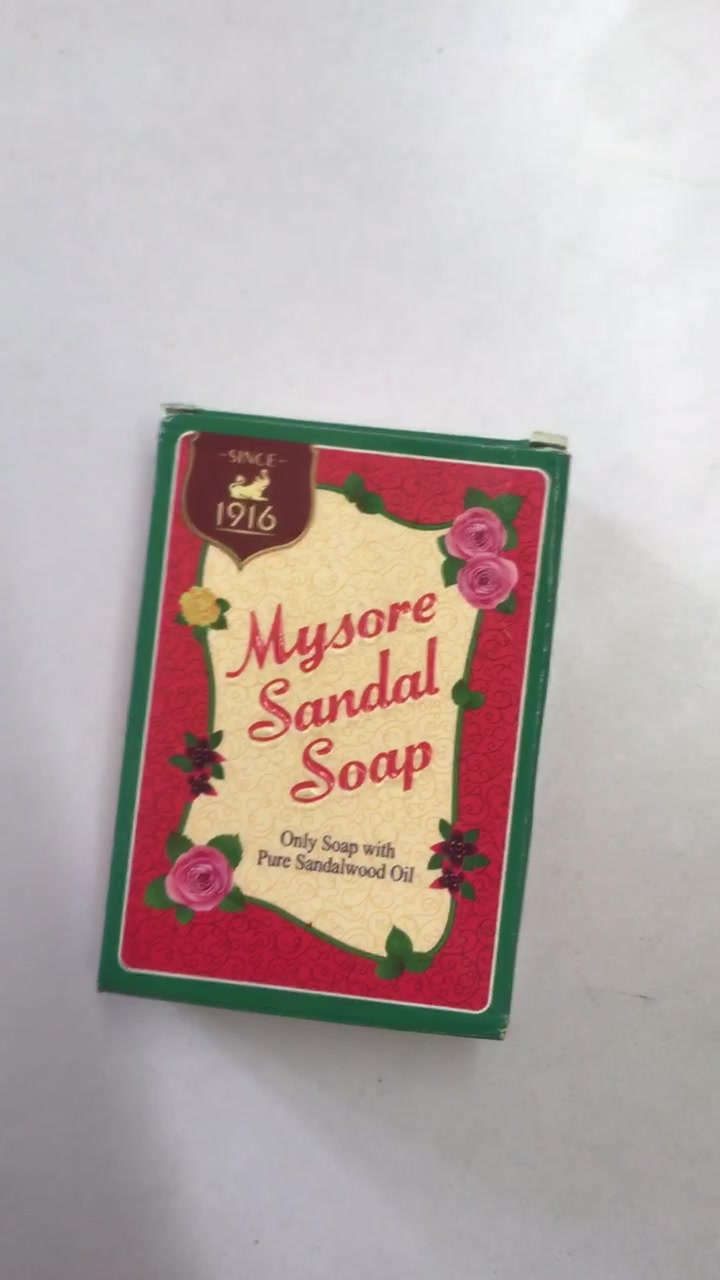mysore sandal soap: (99, 403, 571, 1049)
